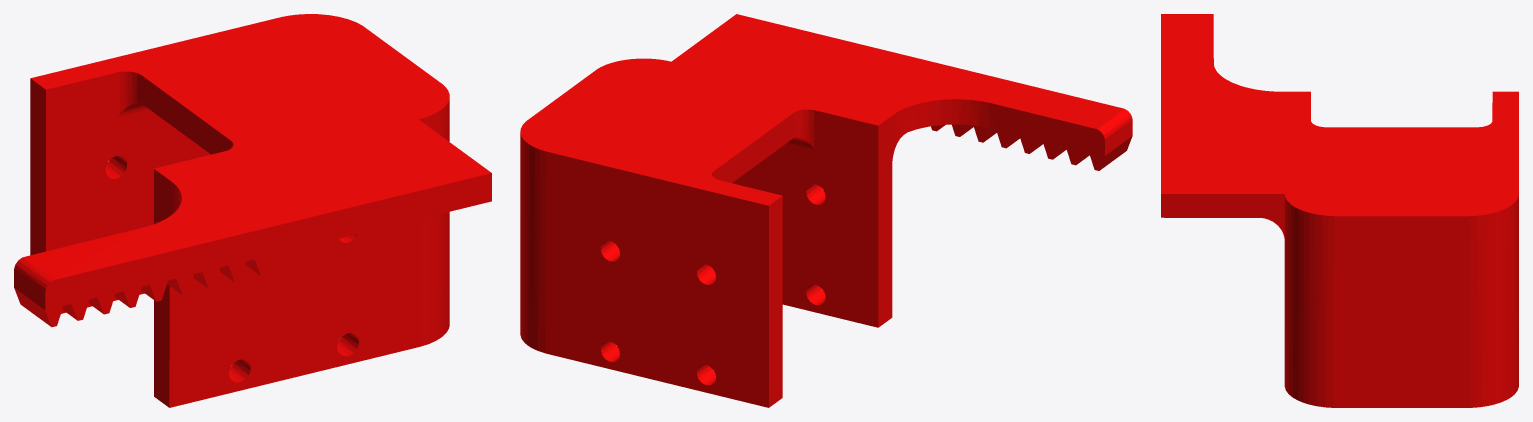
The model's file is left_arm_2_hand_1_rack_1.glb.
3 views of the same model, side by side, from view 1: azimuth 30°, elevation 25°; view 2: azimuth 150°, elevation 25°; view 3: azimuth 270°, elevation 25° (orthographic). The views are drawn at different scales.
Visible parts, largest first — view 1: left_arm_2_hand_1_rack_1.obj; view 2: left_arm_2_hand_1_rack_1.obj; view 3: left_arm_2_hand_1_rack_1.obj.
Part boxes in pixels (x1=…): left_arm_2_hand_1_rack_1.obj: x1=14, y1=14, x2=491, y2=407; left_arm_2_hand_1_rack_1.obj: x1=520, y1=14, x2=1132, y2=407; left_arm_2_hand_1_rack_1.obj: x1=1161, y1=14, x2=1518, y2=407.
Size of the model in its own units: 0.0925 by 0.0402 by 0.068.
